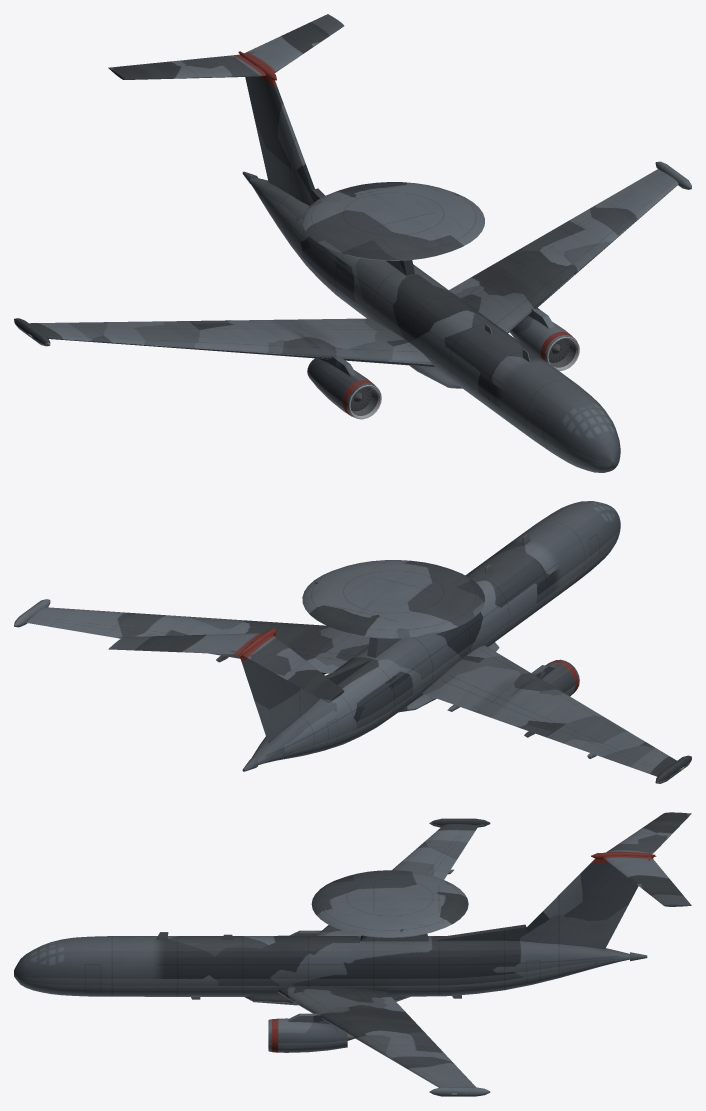
The model's file is radar-jammer.fbx.
3 renders of one model, top to bottom at view 1: azimuth 30°, elevation 25°; view 2: azimuth 150°, elevation 25°; view 3: azimuth 270°, elevation 25°, orthographic. The views are drawn at different scales.
Visible parts, largest first — view 1: Body; view 2: Body; view 3: Body.
Boxes of the visible parts, x1,y1,x2,y2 form: Body: (14, 14, 691, 472); Body: (14, 501, 691, 783); Body: (14, 812, 691, 1096).
Bounding box in the file's own units: 59.32 × 15.88 × 62.18.
1 material, 1 textured.
